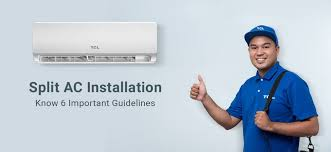ac: (31, 17, 159, 70)
